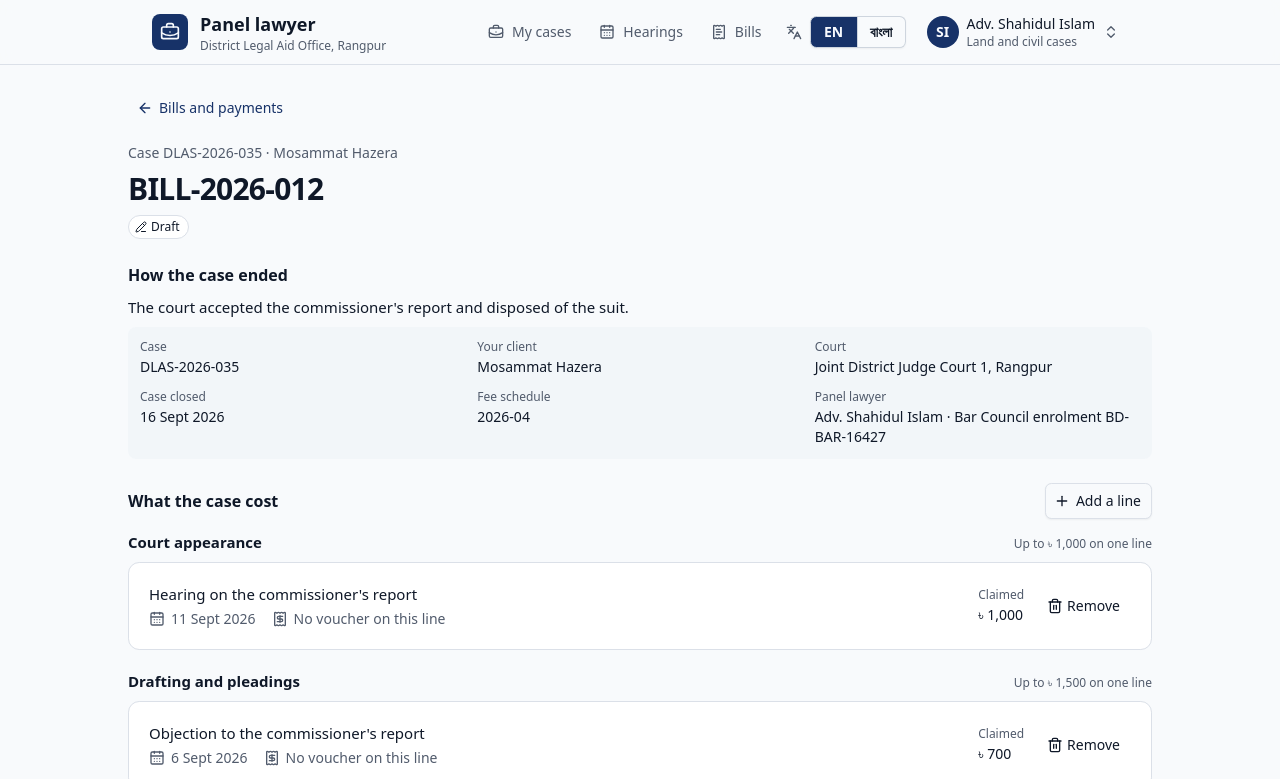
Test: adding a line to a bill › takes a line off a draft
Click the button with aria-label "Remove the line: Hearing on the commissioner's report": (1086, 606) [1040,590,1131,622]
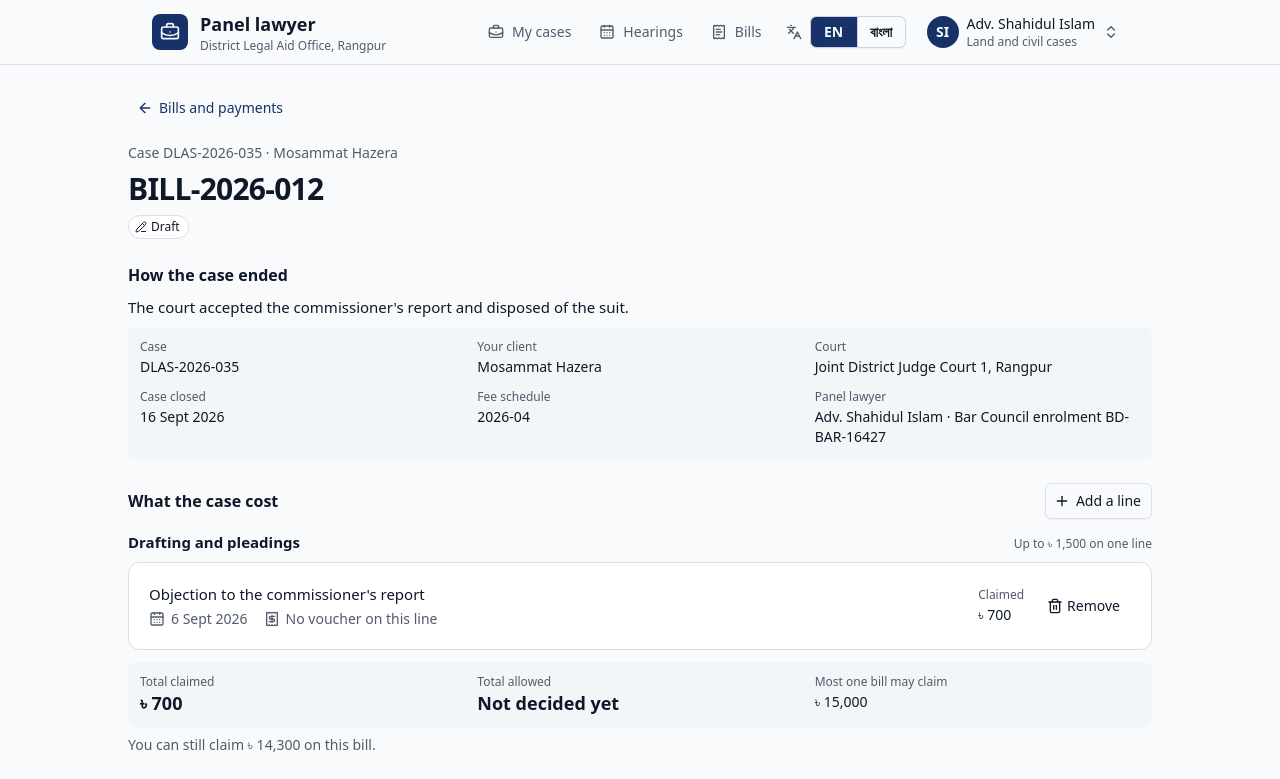
Check: the text "Hearing on the commissioner's report" is gone
Check: the text "৳ 700" below "Total claimed" is shown, box [140,691,182,715]
